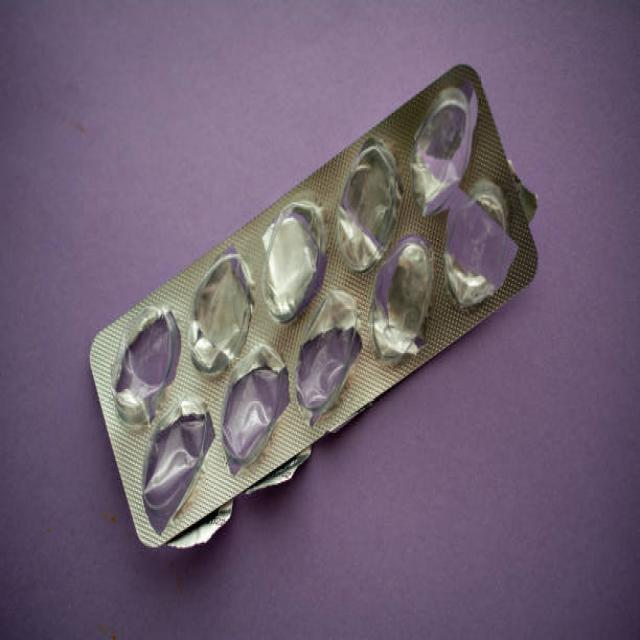Empty: (244, 180, 339, 349), (125, 376, 225, 535), (439, 158, 528, 327), (326, 120, 419, 281), (175, 237, 262, 408), (402, 67, 488, 231), (366, 210, 447, 384), (213, 317, 294, 489), (104, 285, 193, 441), (295, 265, 367, 443)
